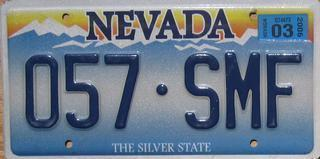placa de veiculo: (5, 2, 304, 159)
